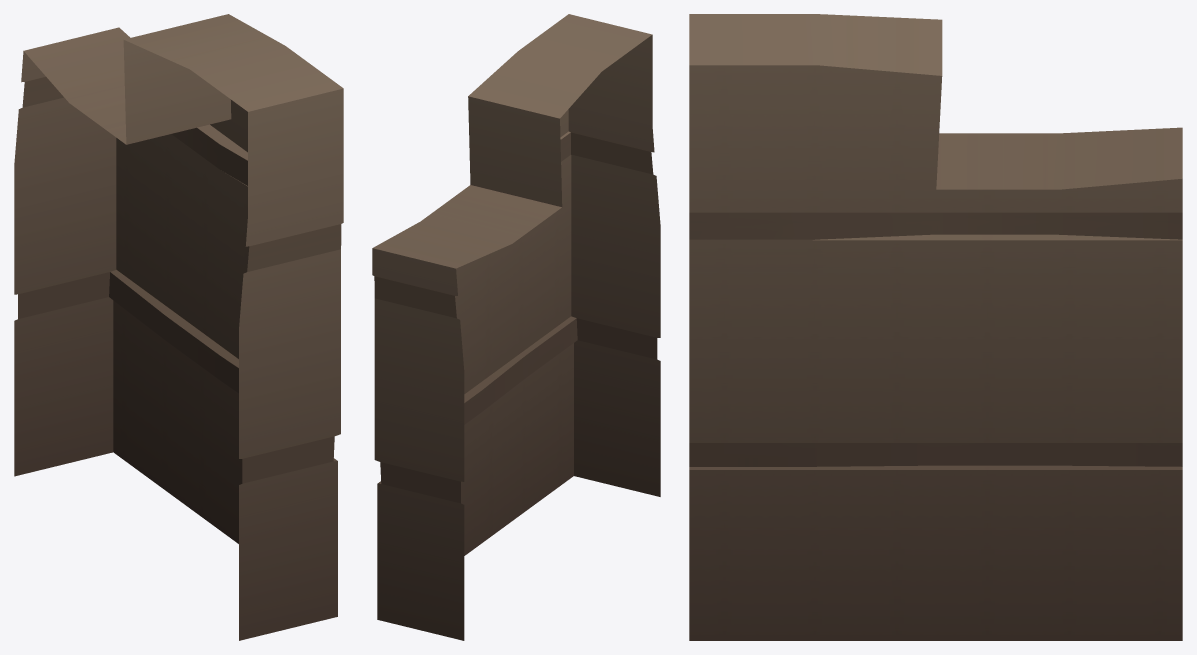
Rendered from pared_4.fbx.
3 renders of one model, left to right at view 1: azimuth 30°, elevation 25°; view 2: azimuth 150°, elevation 25°; view 3: azimuth 270°, elevation 25°, orthographic. The views are drawn at different scales.
Visible parts, largest first — view 1: ParedMedia.001; view 2: ParedMedia.001; view 3: ParedMedia.001.
Boxes of the visible parts, box(x1,y1,x2,y2) form: ParedMedia.001: box(14, 14, 343, 640); ParedMedia.001: box(372, 14, 660, 640); ParedMedia.001: box(689, 14, 1182, 640).
Size of the model in its own units: 212 by 1019 by 787.
